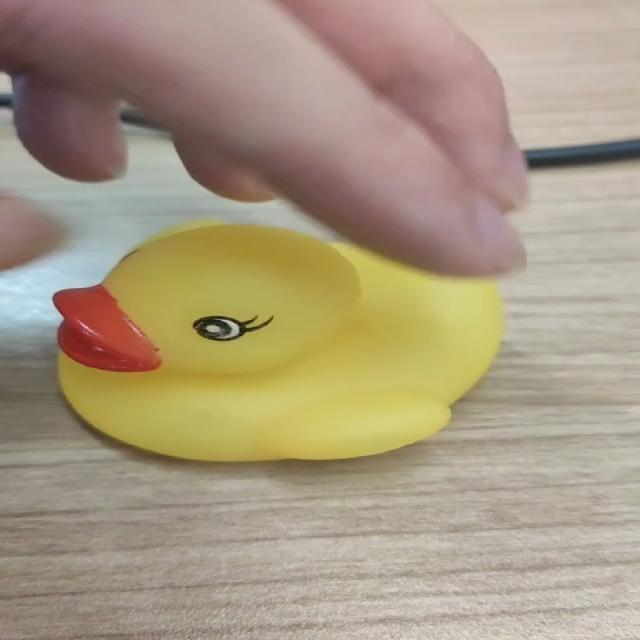rubber-duck: (52, 222, 500, 459)
